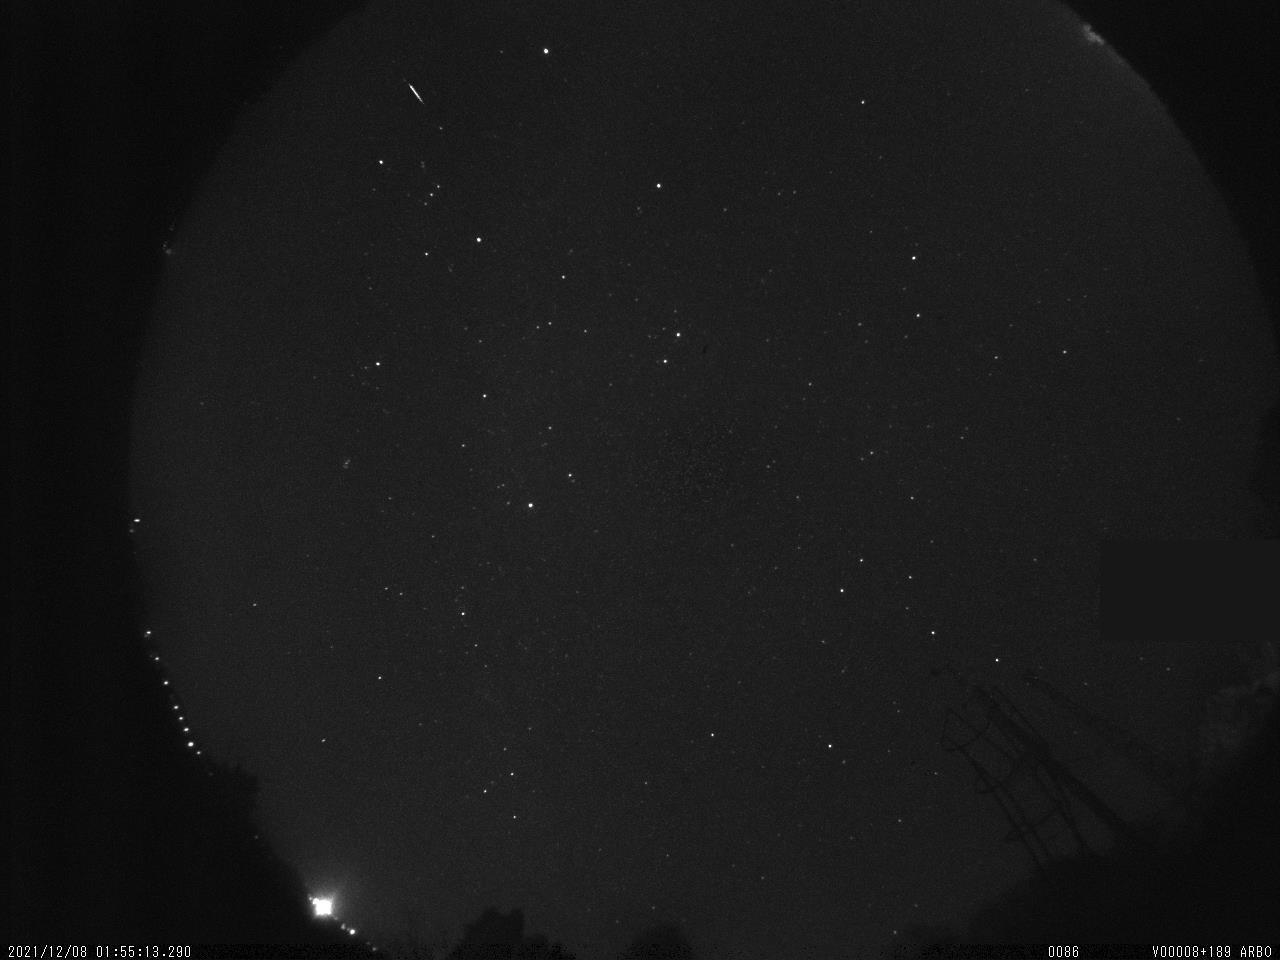meteor: (401, 82, 432, 109)
